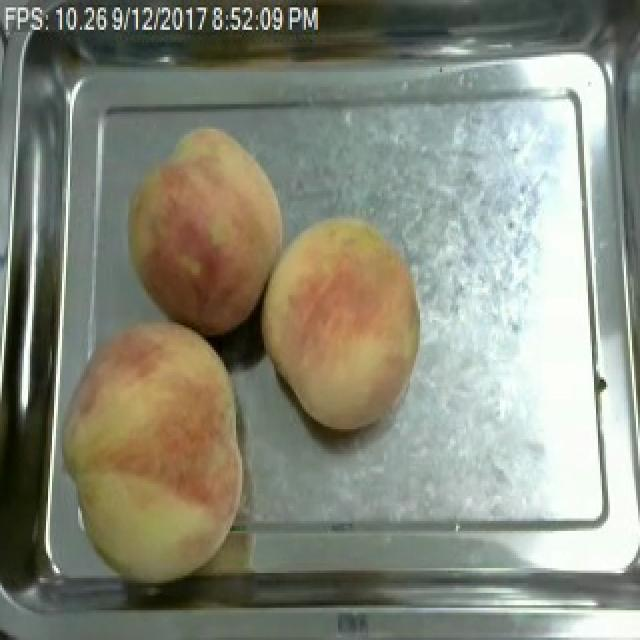Fruit: (40, 308, 256, 596), (250, 208, 428, 436), (118, 117, 294, 342)
